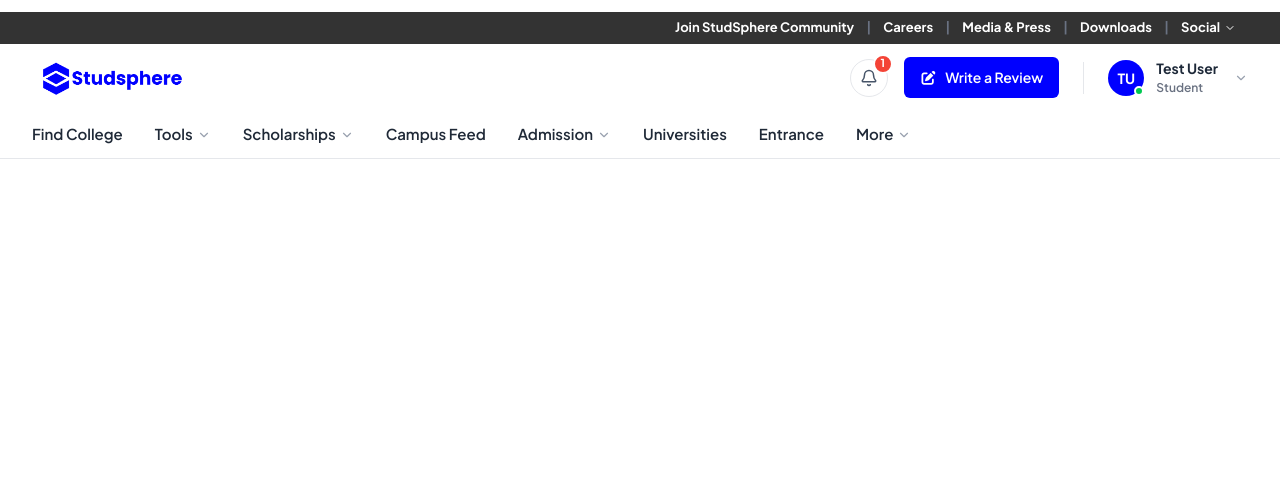
Test: EducationNavbar notification bell › badge equals the server unread count and rows render real items
Click the button named "Notifications" at {"x": 869, "y": 78}, box [850,58,888,96]
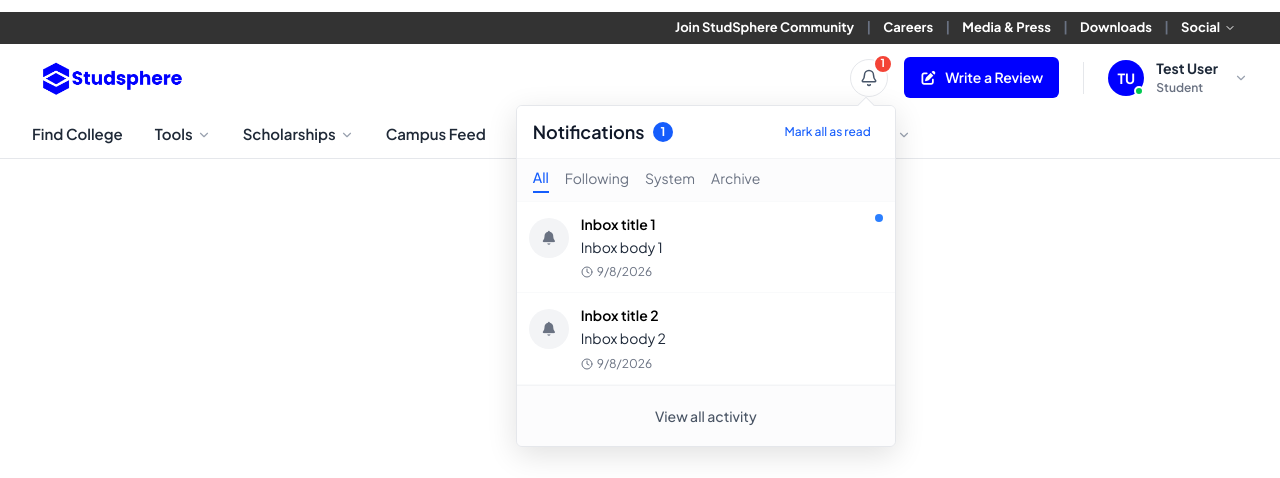
Expected: the text "Inbox title 1" is shown, [581,214,656,234]
Expected: the text "Inbox title 2" is shown, [581,305,659,325]
